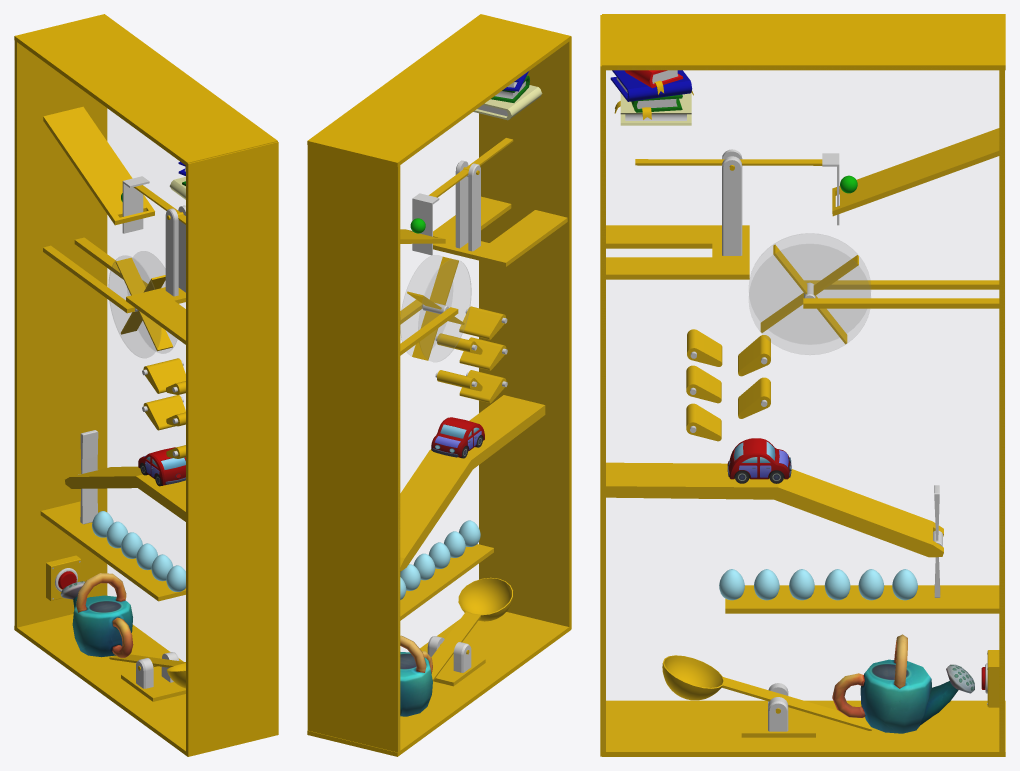
File: Goldberg 2.fbx
The picture shows the model from 3 angles, left to right: view 1: azimuth 30°, elevation 25°; view 2: azimuth 150°, elevation 25°; view 3: azimuth 270°, elevation 25°; orthographic projection. The views are drawn at different scales.
Visible parts, largest first — view 1: Masina_2_ram, Drzac_1, Kantica, Tockic_vetrenjaca, Klackalica_drzac, Postolje, Drzac_vetrenjace, Tockic_drzac, Postolje_za_klackalicu4, Elise3, Autic, Drzac_loptice (+4 smaller); view 2: Masina_2_ram, Drzac_vetrenjace, Klackalica_drzac, Tockic_vetrenjaca, Kasika_od_klackalice2, Kantica, Postolje, Autic, Postolje_za_klackalicu4, Fliper6, Tockic_drzac, Knjiga (+7 smaller); view 3: Masina_2_ram, Drzac_vetrenjace, Tockic_vetrenjaca, Klackalica_drzac, Kantica, Postolje, Drzac_1, Tockic_drzac, Kasika_od_klackalice2, Postolje_za_klackalicu4, Autic, Knjiga (+10 smaller).
Boxes of the visible parts, <box> form: Masina_2_ram: <box>14,14,278,756</box>; Drzac_1: <box>43,106,154,225</box>; Kantica: <box>60,573,133,657</box>; Tockic_vetrenjaca: <box>108,251,177,357</box>; Klackalica_drzac: <box>126,205,185,344</box>; Postolje: <box>40,501,185,601</box>; Drzac_vetrenjace: <box>65,466,185,521</box>; Tockic_drzac: <box>43,237,147,313</box>; Postolje_za_klackalicu4: <box>121,652,185,701</box>; Elise3: <box>78,430,98,524</box>; Autic: <box>138,447,185,486</box>; Drzac_loptice: <box>122,176,149,233</box>; Masina_2_ram: <box>307,14,571,756</box>; Drzac_vetrenjace: <box>400,395,545,571</box>; Klackalica_drzac: <box>433,160,567,266</box>; Tockic_vetrenjaca: <box>400,255,471,361</box>; Kasika_od_klackalice2: <box>431,577,512,680</box>; Kantica: <box>400,635,432,716</box>; Postolje: <box>400,544,493,620</box>; Autic: <box>431,417,484,458</box>; Postolje_za_klackalicu4: <box>427,636,485,686</box>; Fliper6: <box>459,306,507,339</box>; Tockic_drzac: <box>400,299,458,355</box>; Knjiga: <box>473,85,542,120</box>; Masina_2_ram: <box>600,14,1005,756</box>; Drzac_vetrenjace: <box>606,462,943,557</box>; Tockic_vetrenjaca: <box>749,233,870,354</box>; Klackalica_drzac: <box>606,149,749,279</box>; Kantica: <box>832,634,974,733</box>; Postolje: <box>725,585,999,613</box>; Drzac_1: <box>832,128,999,216</box>; Tockic_drzac: <box>803,280,999,308</box>; Kasika_od_klackalice2: <box>662,655,872,730</box>; Postolje_za_klackalicu4: <box>741,683,815,737</box>; Autic: <box>727,438,791,483</box>; Knjiga: <box>614,92,691,125</box>.
Bounding box in the file's own units: 7.78 × 48.96 × 25.98.
Materials: 17 (2 with a texture image).
